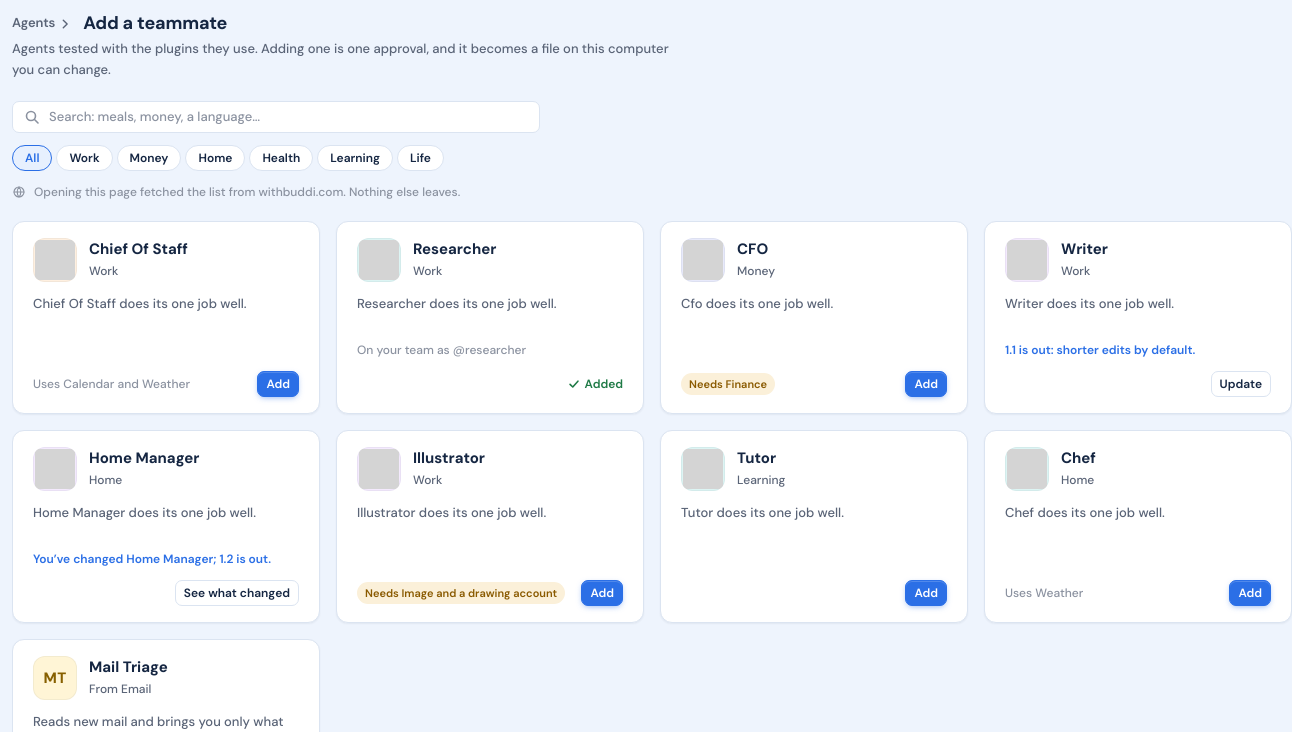
the catalogue page › narrows by search and by category chip
Step 1. Click the button "Money" → (149, 158), box [117,145,182,171]
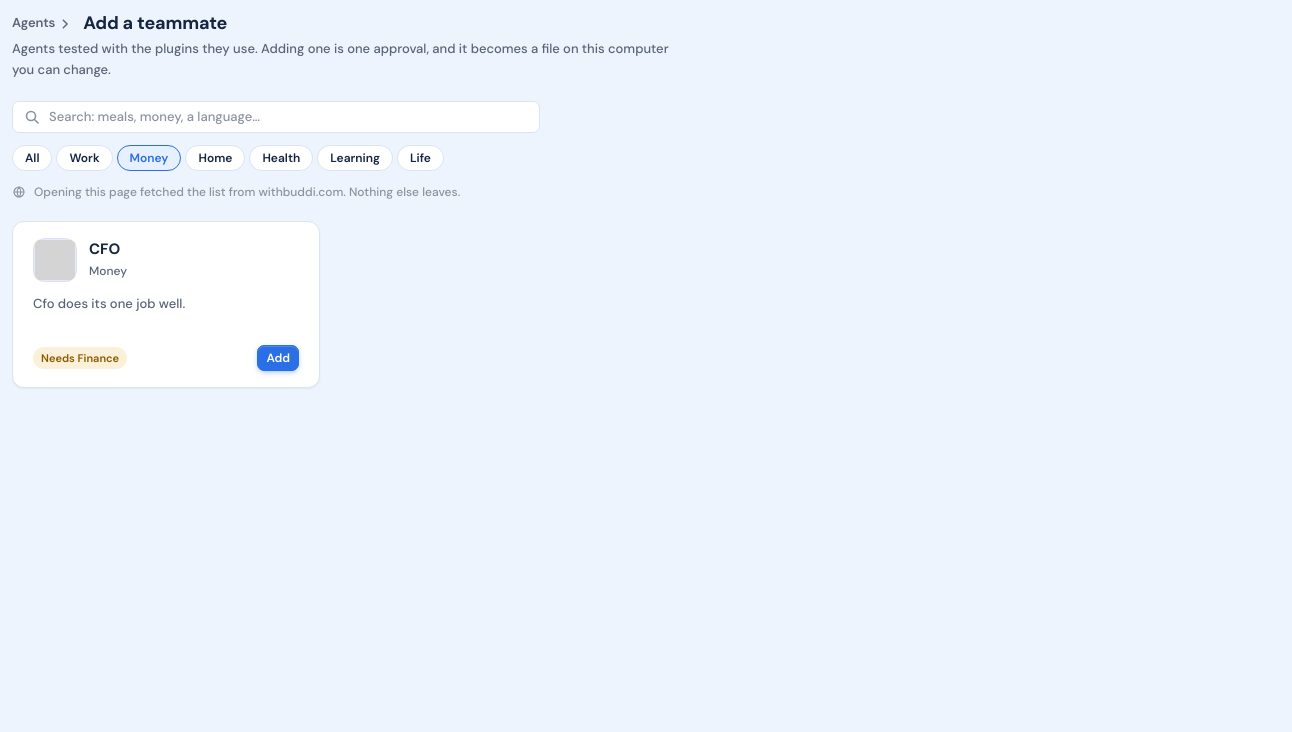
Expected: the element with test id "cat-card-cfo" is shown, [12,221,320,388]
Expected: the element with test id "cat-card-chief-of-staff" is gone
Step 2. Click the button "All" → (32, 158), box [12,145,52,171]
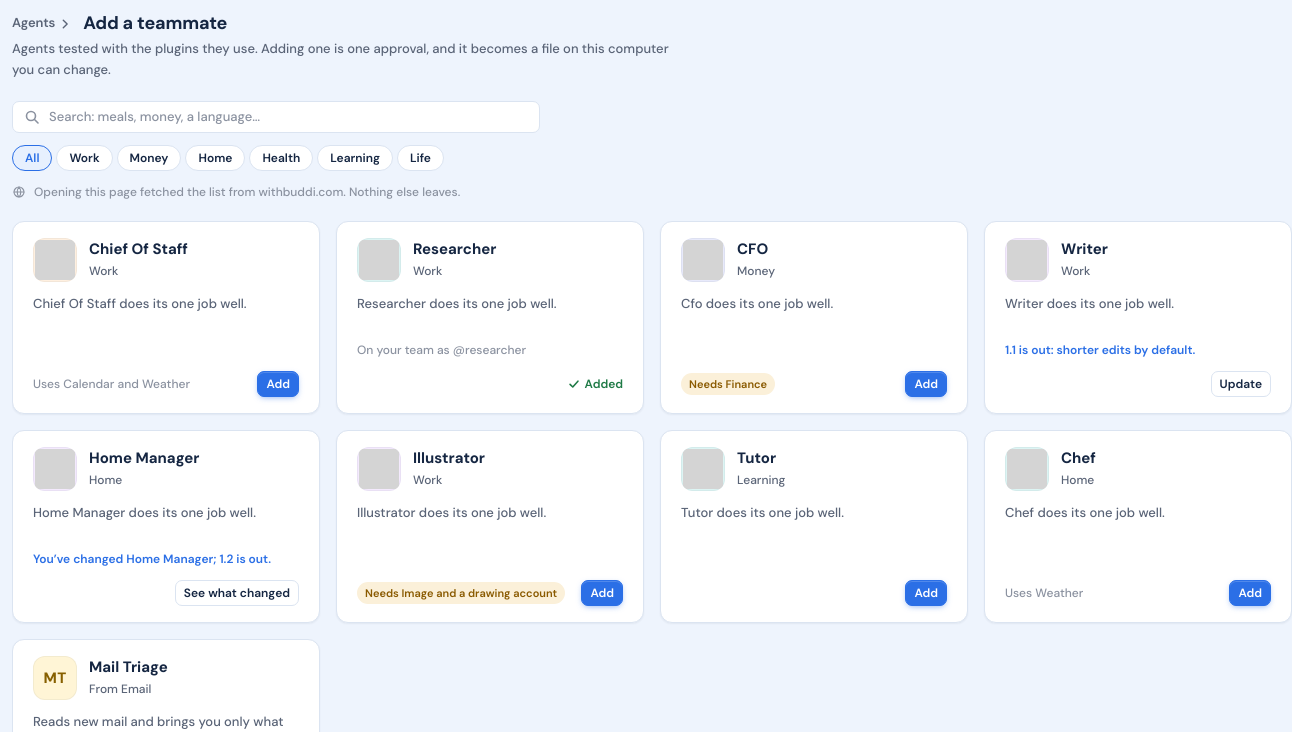
Step 3. Type "learning" into the search field named "Search teammates" → (276, 117), box [12,101,540,133]
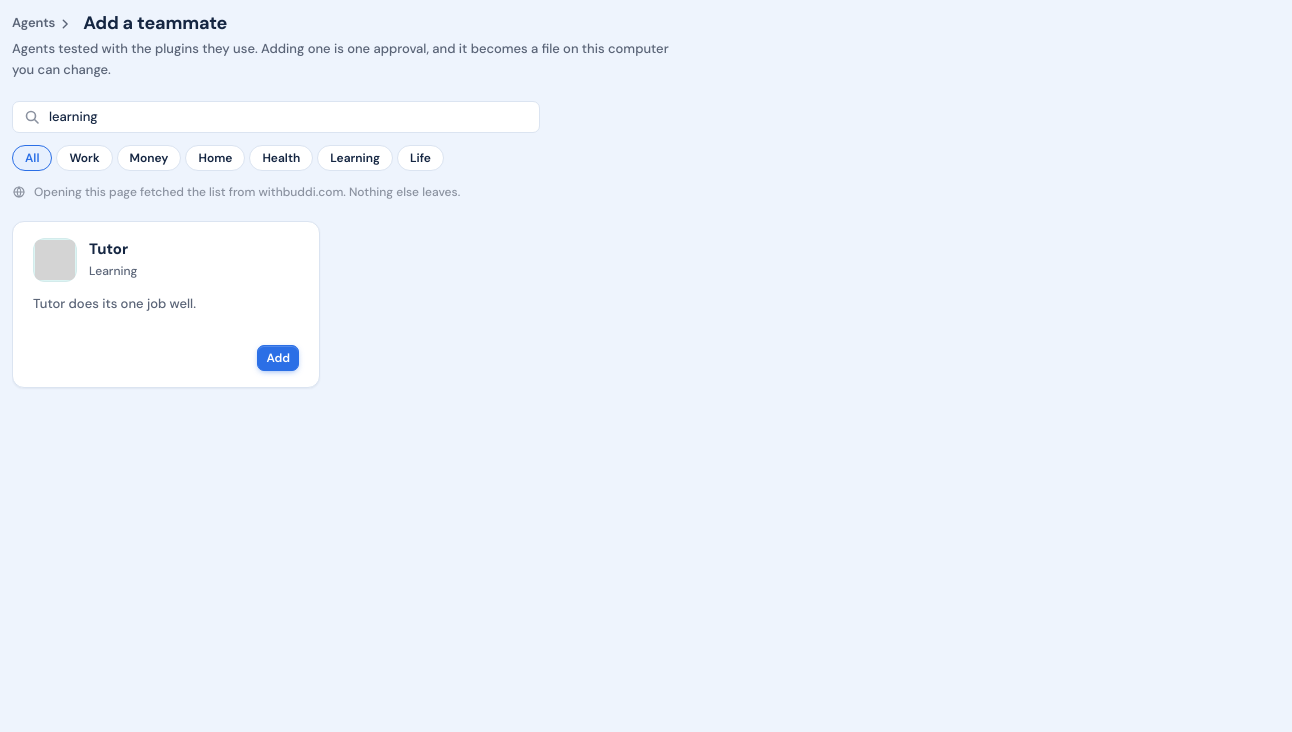
Expected: the element with test id "cat-card-tutor" is shown, [12,221,320,388]
Expected: the element with test id "cat-card-cfo" is gone
